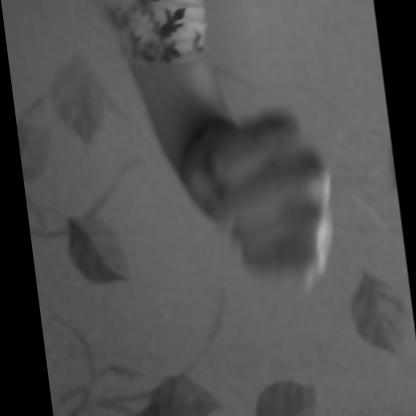fist: (132, 69, 354, 293)
